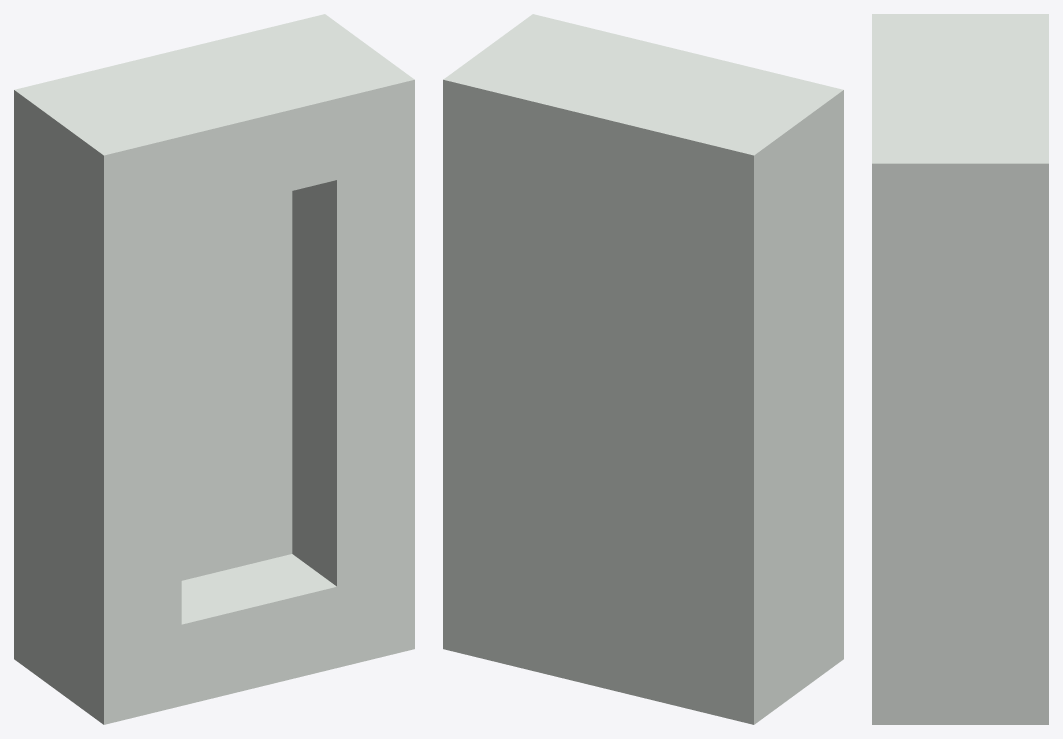
Rendered from picture2.obj.
The picture shows the model from 3 angles, left to right: view 1: azimuth 30°, elevation 25°; view 2: azimuth 150°, elevation 25°; view 3: azimuth 270°, elevation 25°; orthographic projection.
Bounding box in the file's own units: 0.4 × 0.7 × 0.2.
1 material, 1 textured.
